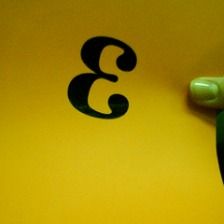orange3: (62, 32, 142, 123)
